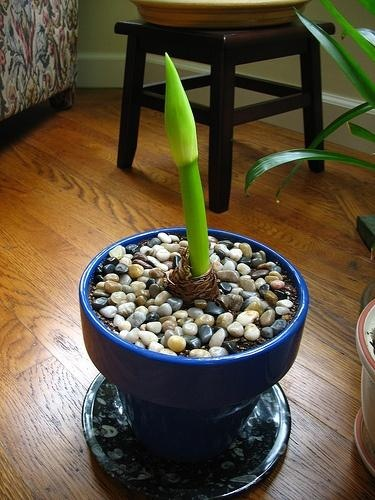pottedplant: (81, 52, 310, 461)
